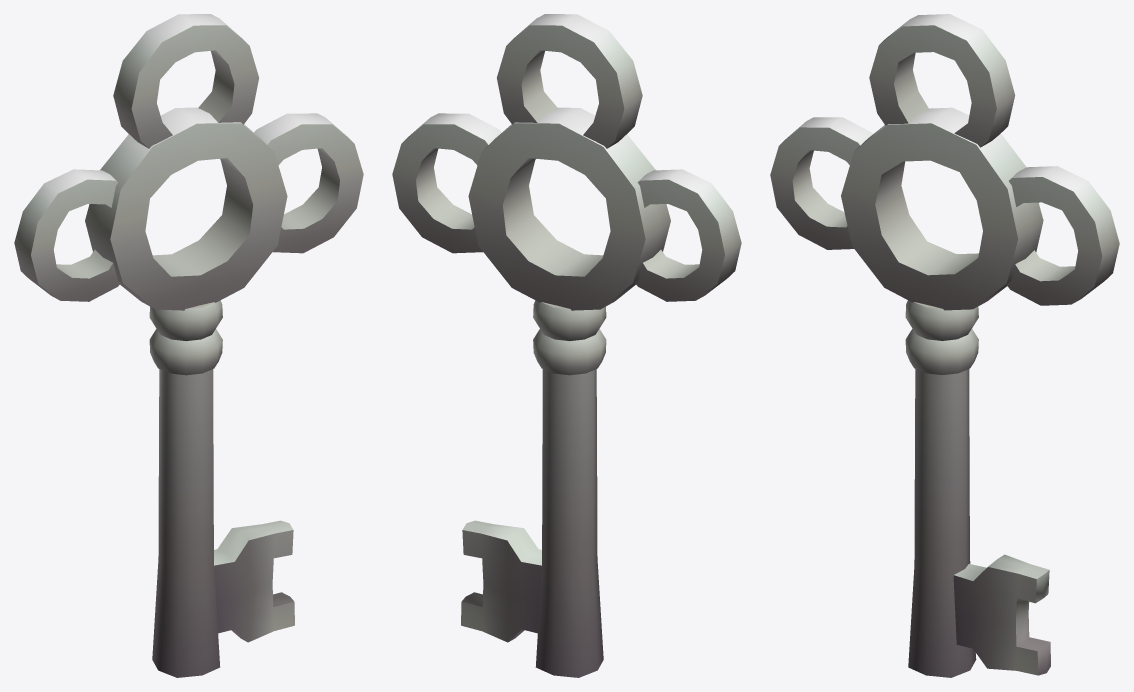
File: key-skeleton.glb
3 renders of one model, left to right at view 1: azimuth 30°, elevation 25°; view 2: azimuth 150°, elevation 25°; view 3: azimuth 330°, elevation 25°, orthographic.
Parts seen in each view (by area): view 1: Skeleton_Key_01; view 2: Skeleton_Key_01; view 3: Skeleton_Key_01.
Boxes of the visible parts, x1,y1,x2,y2 form: Skeleton_Key_01: (14, 14, 363, 677); Skeleton_Key_01: (392, 14, 741, 677); Skeleton_Key_01: (770, 14, 1119, 677).
Bounding box in the file's own units: 0.5136 × 0.9518 × 0.0974.
1 material, 1 textured.
